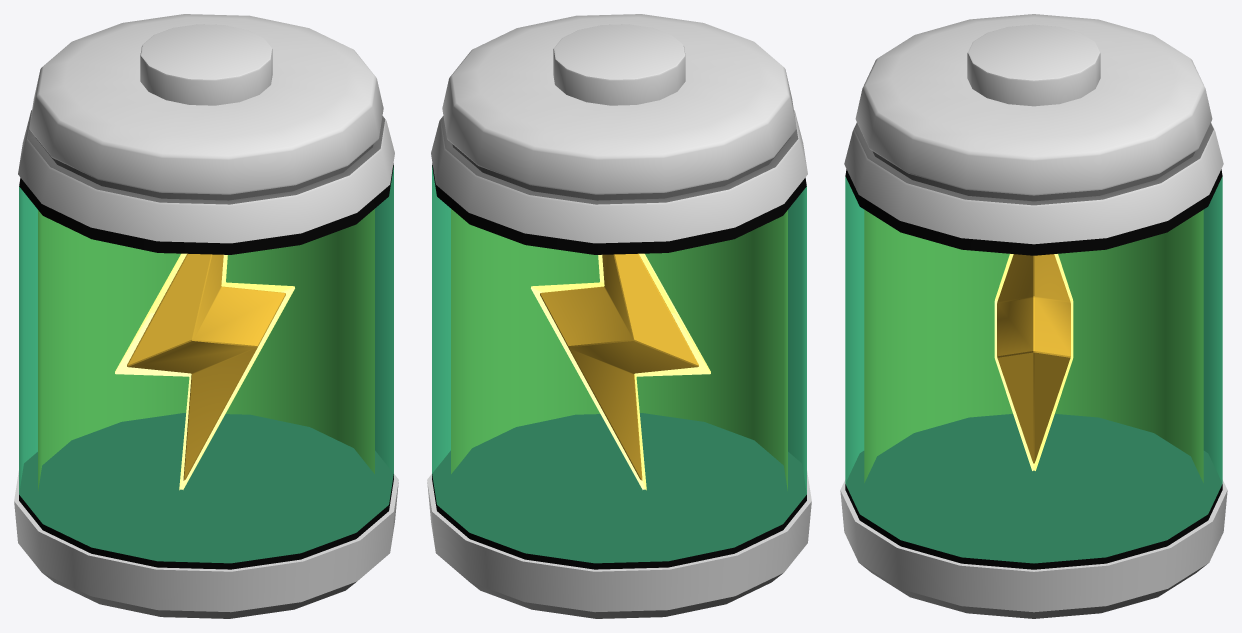
Rendered from Celula_energia.glb.
3 renders of one model, left to right at view 1: azimuth 30°, elevation 25°; view 2: azimuth 150°, elevation 25°; view 3: azimuth 270°, elevation 25°, orthographic.
Visible parts, largest first — view 1: Cell_2, Lightning_3, EnergyLine_4; view 2: Cell_2, Lightning_3, EnergyLine_4; view 3: Cell_2, Lightning_3, EnergyLine_4.
Part boxes in pixels (x1,y1,x2,y2): Cell_2: (14, 14, 398, 618); Lightning_3: (127, 253, 285, 480); EnergyLine_4: (115, 253, 294, 490); Cell_2: (427, 14, 811, 618); Lightning_3: (540, 253, 698, 480); EnergyLine_4: (531, 253, 710, 490); Cell_2: (840, 14, 1227, 618); Lightning_3: (997, 254, 1070, 463); EnergyLine_4: (994, 254, 1073, 470).
Size of the model in its own units: 2.28 by 3.2 by 2.28.
